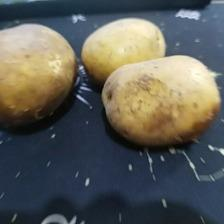Damaged potato: (100, 54, 224, 150), (0, 20, 77, 128)
Potato: (82, 16, 169, 86)
